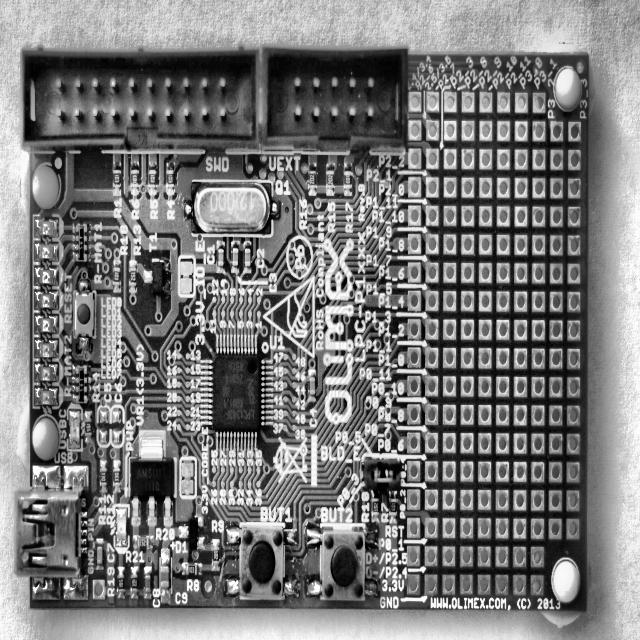PCB: (14, 40, 592, 622)
